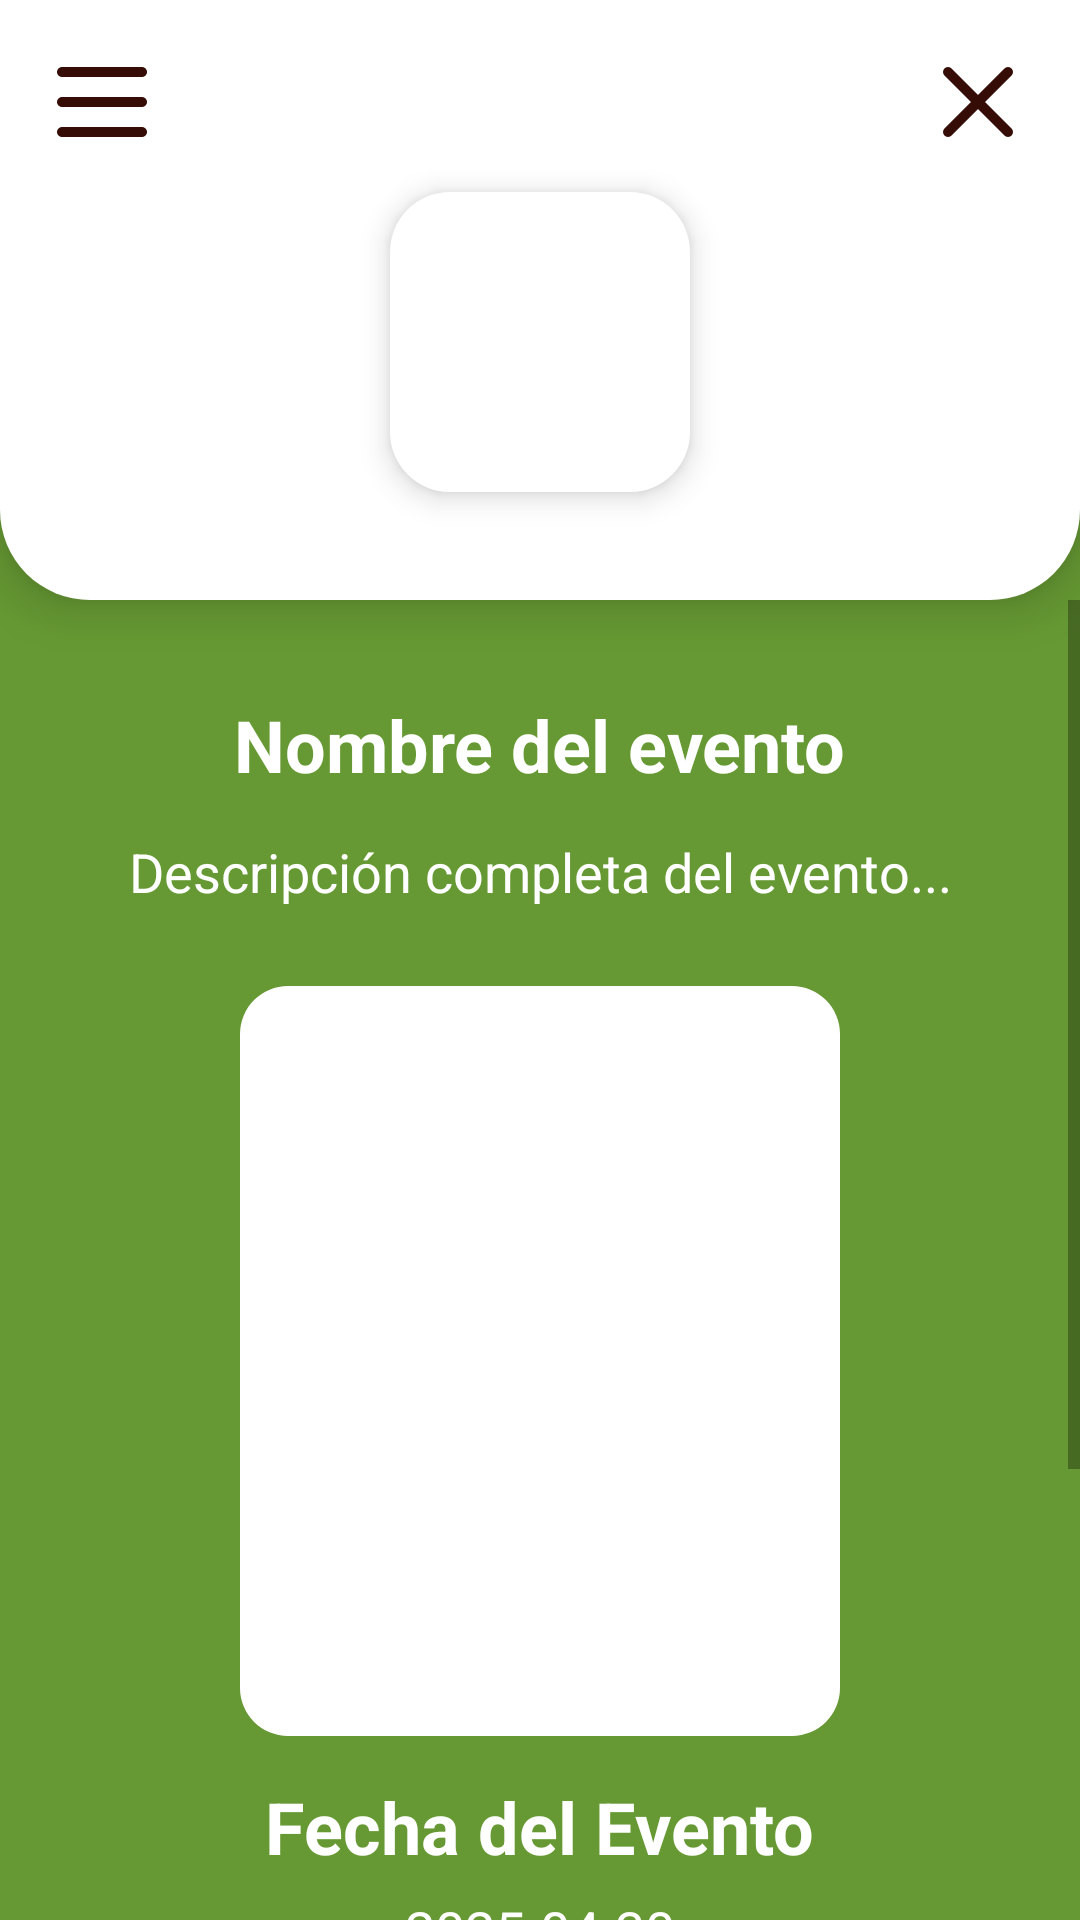

Icons on this 1080px×1920px Android screen, each with its box as (x1, y1, x2, y2):
close: (943, 67, 1013, 137)
menu: (57, 67, 147, 137)
